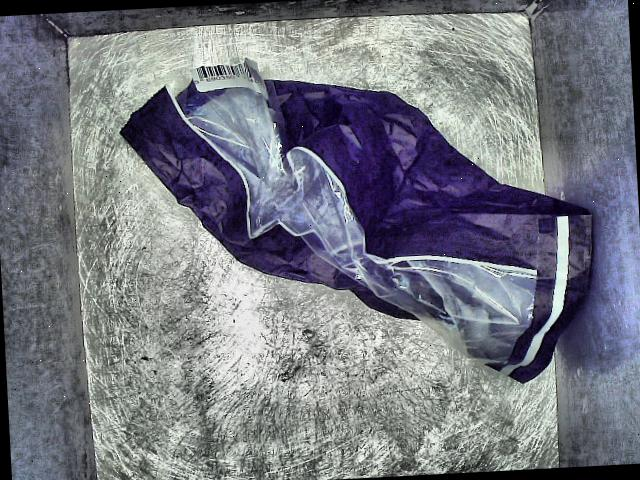Paper: (115, 36, 606, 408)
